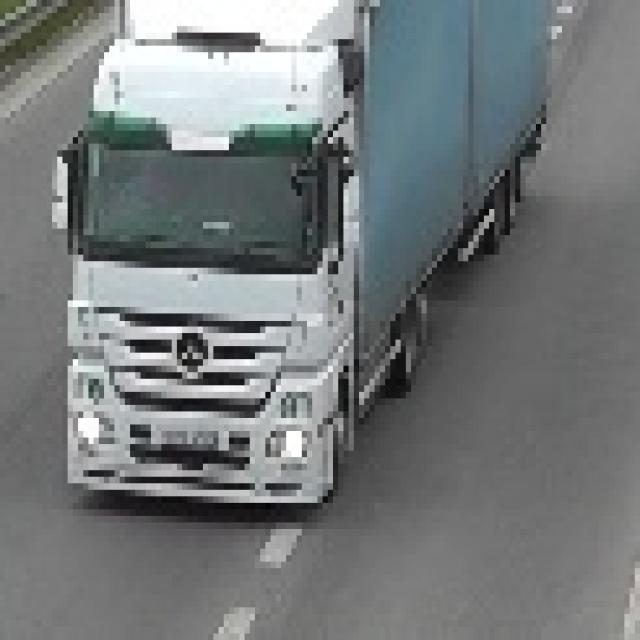TRUCK: (53, 3, 549, 504)
